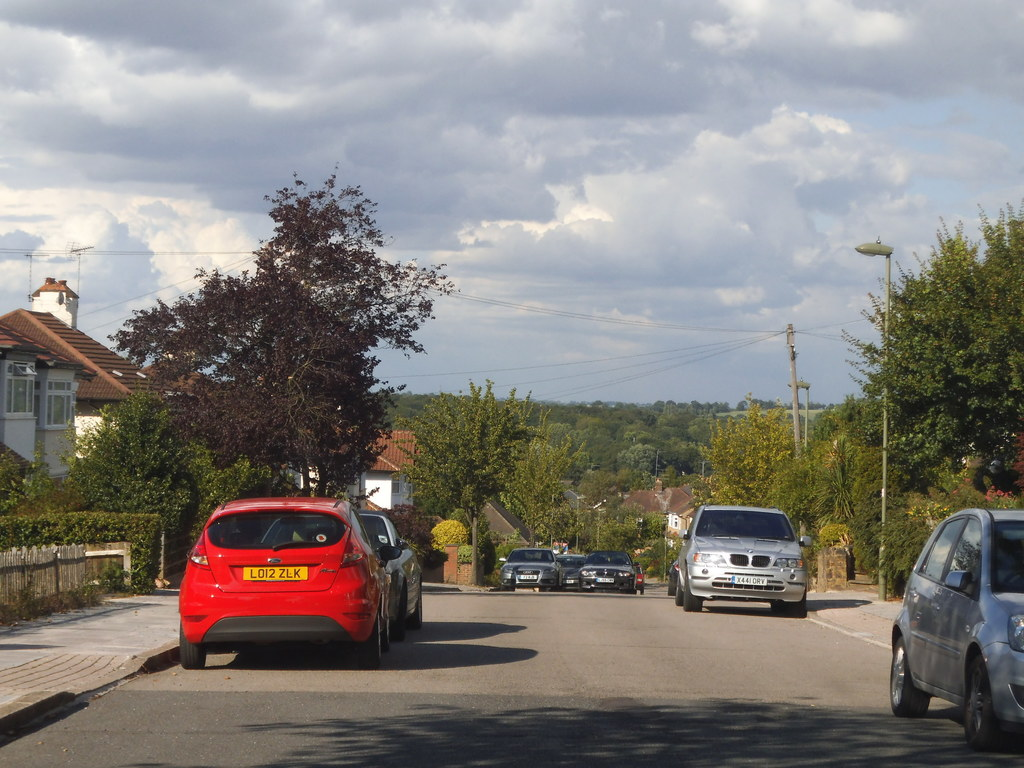license plate: (242, 567, 308, 578)
